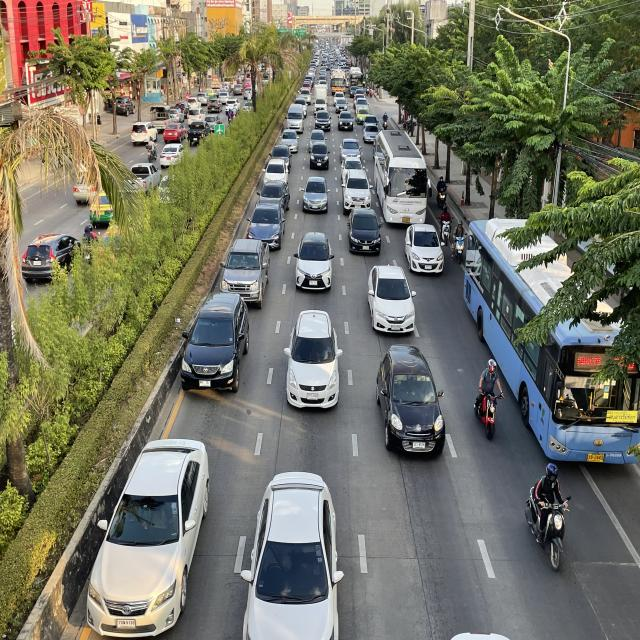bike: (524, 457, 573, 576), (472, 349, 507, 451)
bus: (464, 213, 640, 471), (372, 128, 431, 230)
